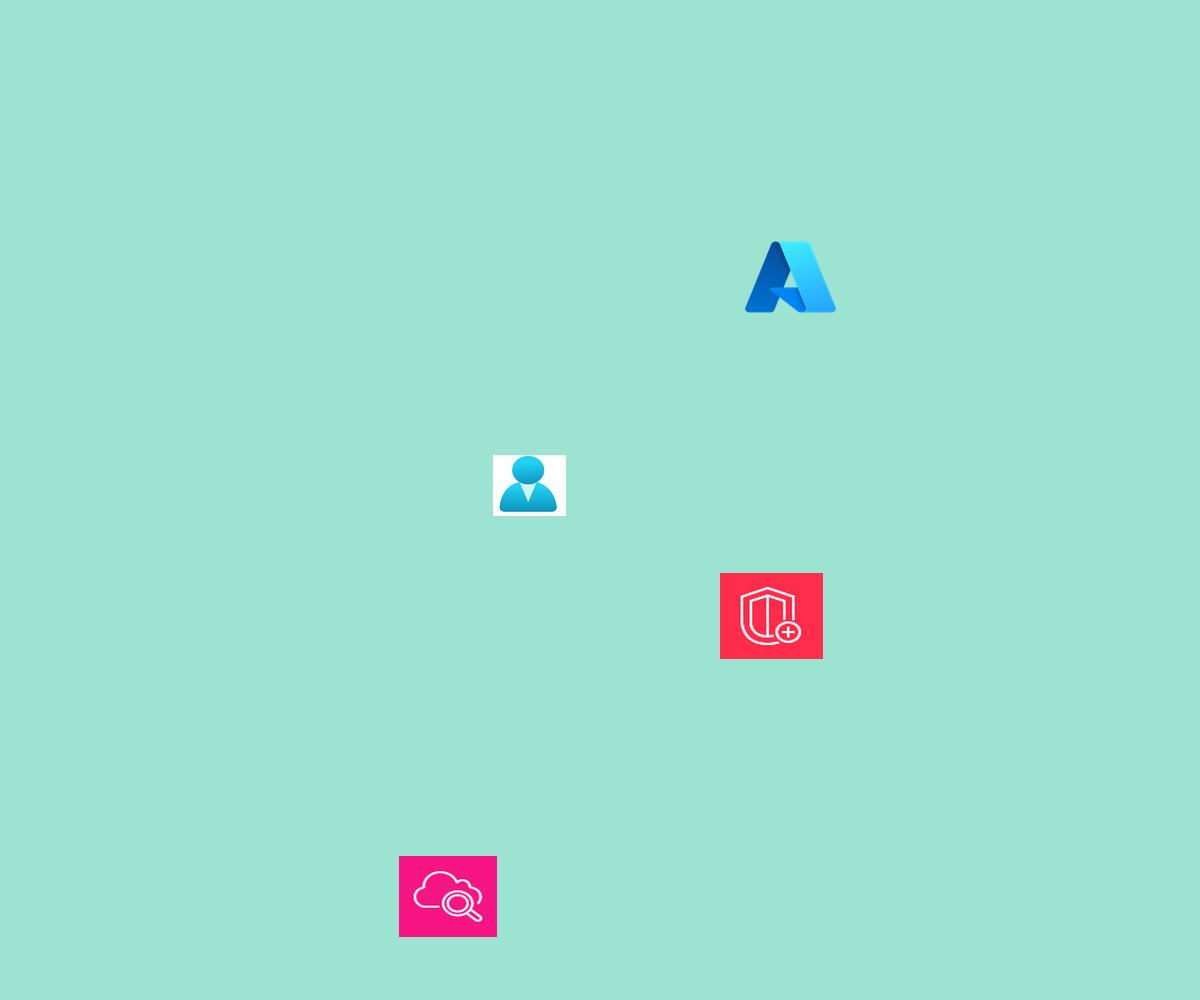AWS-CloudWatch: (399, 856, 497, 937)
AWS-Shield: (720, 573, 823, 659)
Azure_services: (741, 236, 840, 318)
Azure_users: (493, 455, 566, 516)
